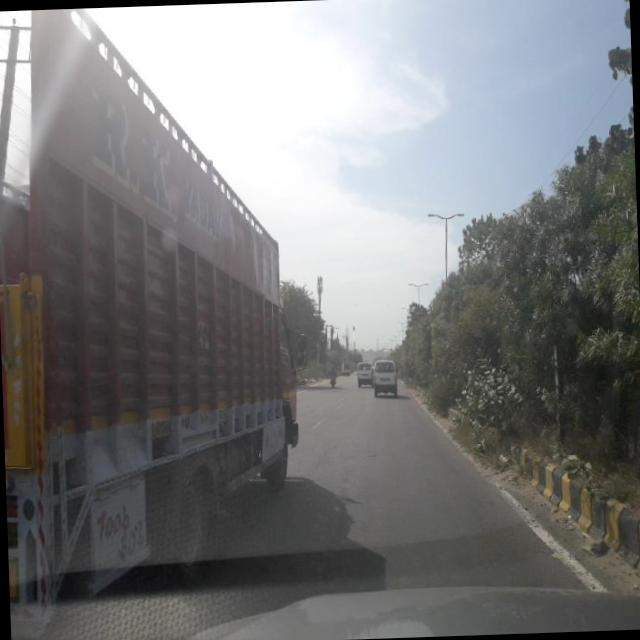crack: (291, 430, 568, 597)
